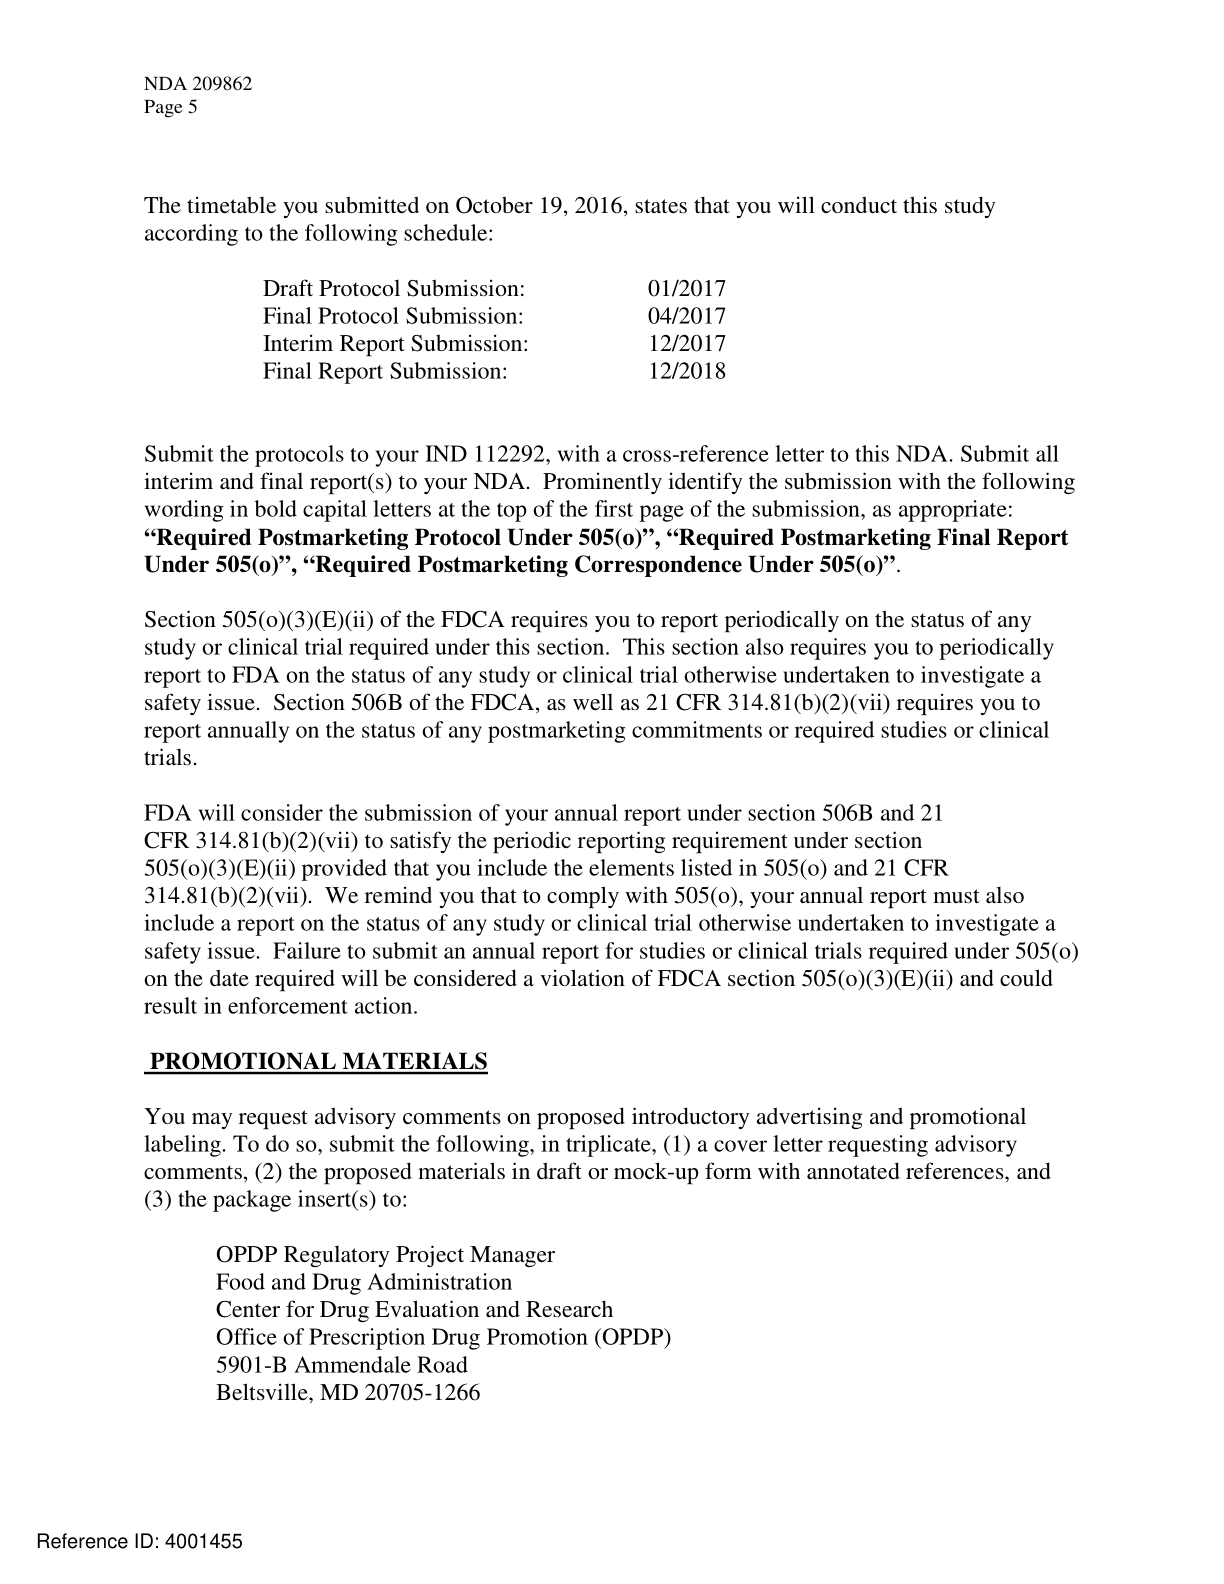nolines: (257, 273, 733, 384)
